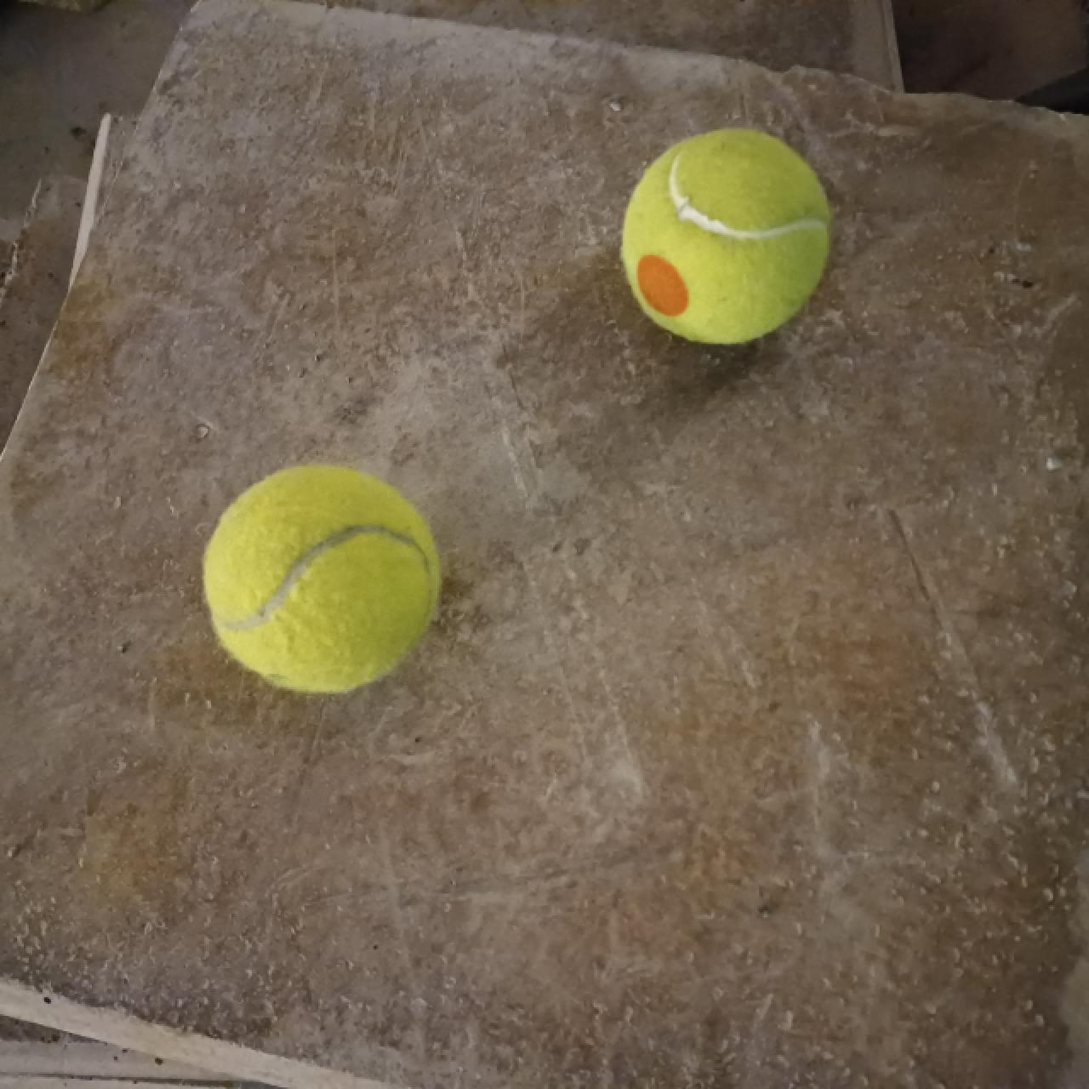tennis-ball: (201, 462, 439, 691), (620, 125, 832, 347)
